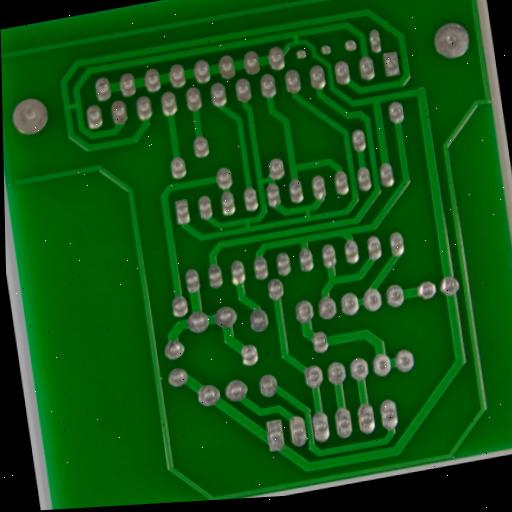short_circuit: (61, 98, 85, 117), (257, 171, 276, 191), (288, 28, 306, 49), (300, 203, 317, 224), (240, 216, 257, 237)
